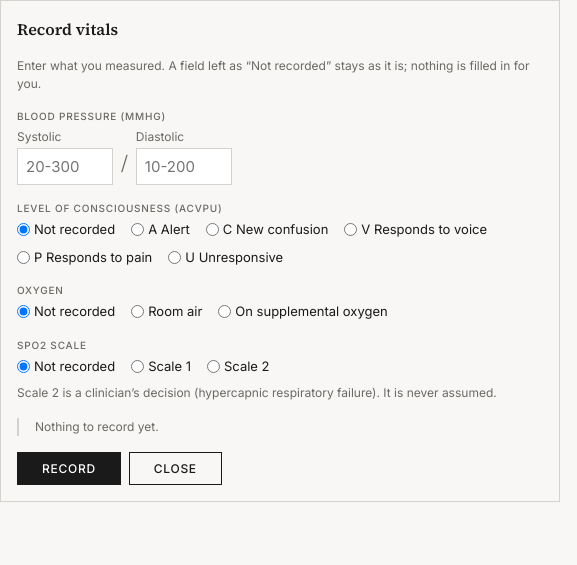
Scenario: a valid draft is one request carrying only what was entered › sends blood pressure and oxygen, nothing else, once
The image size is (577, 565).
In the field labelled "Systolic": (65, 166) [17, 148, 113, 185], type "130"
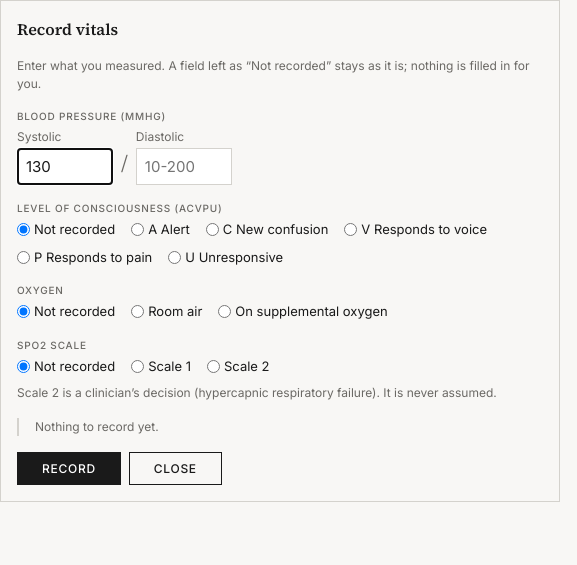
In the field labelled "Diastolic": (184, 166) [136, 148, 232, 185], type "84"
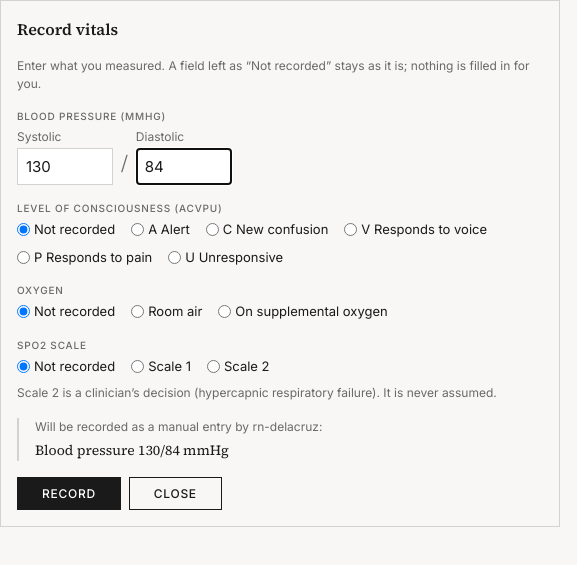
Click the radio button labelled "Room air": (138, 312) [131, 305, 144, 318]
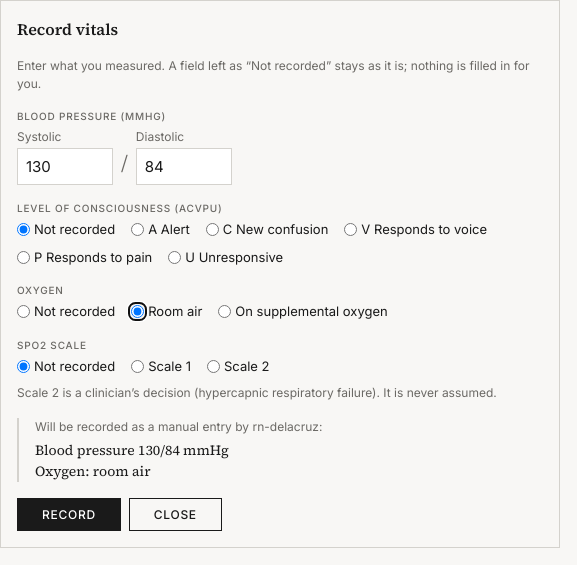
Expected: the text "Will be recorded as a manual entry by rn-delacruz:" is shown, [35, 419, 322, 434]
Expected: the list item "Blood pressure 130/84 mmHg" is shown, [35, 440, 229, 460]
Expected: the list item "Oxygen: room air" is shown, [35, 461, 150, 481]
Click the button "Record": (69, 514) [17, 498, 121, 531]
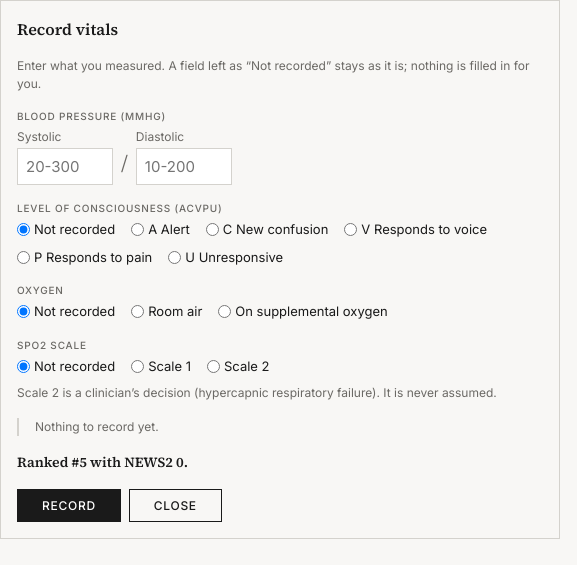
Expected: the text "Ranked #5 with NEWS2 0." is shown, [17, 452, 188, 472]
Expected: the field labelled "Systolic" is empty, [17, 148, 113, 185]
